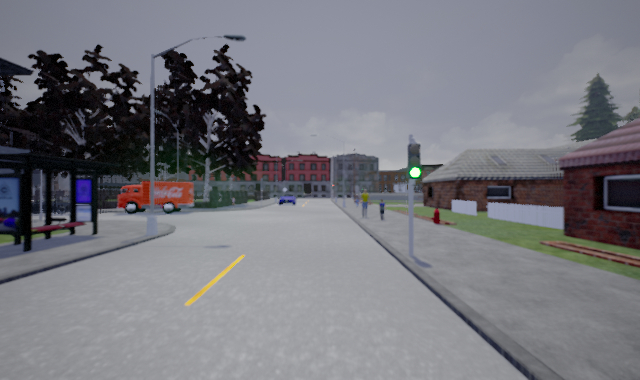pedestrian: (359, 187, 370, 218), (375, 196, 388, 220)
traffic_light: (408, 142, 421, 180)
vehicle: (115, 181, 195, 214), (278, 192, 297, 206)
